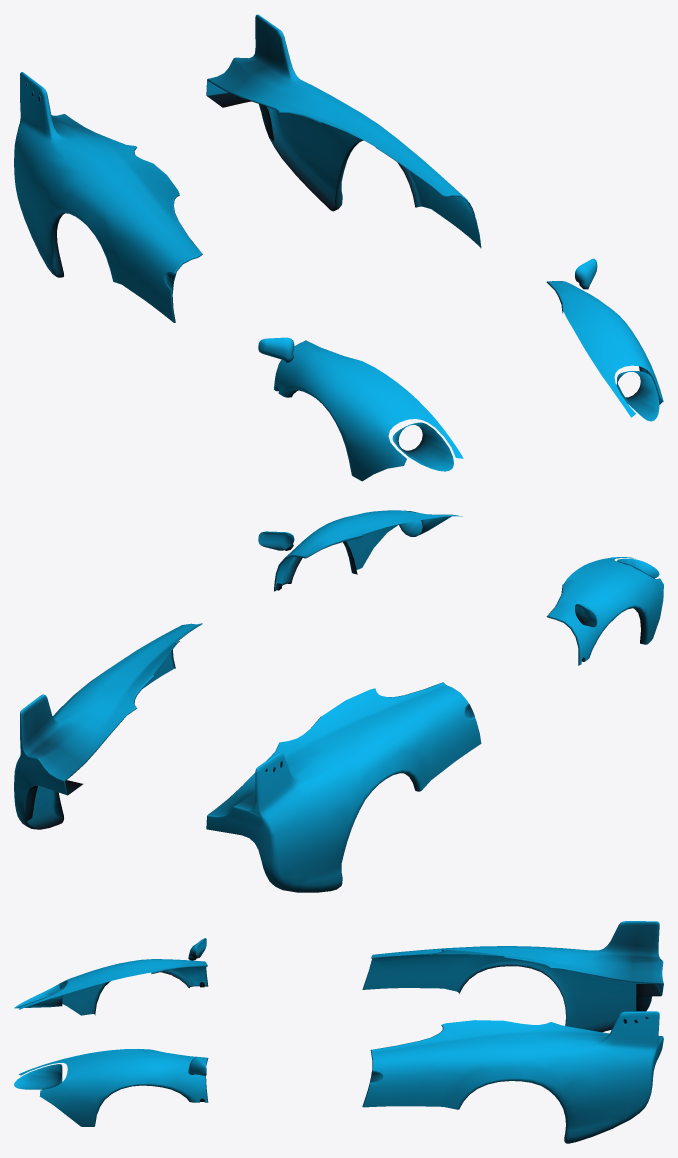
Rendered from MC_XJ220s_Fender01_Duco.fbx.
The picture shows the model from 3 angles, top to bottom: view 1: azimuth 30°, elevation 25°; view 2: azimuth 150°, elevation 25°; view 3: azimuth 270°, elevation 25°; orthographic projection. The views are drawn at different scales.
Visible parts, largest first — view 1: MC_XJ220s_Fender01_Duco; view 2: MC_XJ220s_Fender01_Duco; view 3: MC_XJ220s_Fender01_Duco.
Boxes of the visible parts, bbox=[...] form: MC_XJ220s_Fender01_Duco: bbox=[14, 14, 663, 481]; MC_XJ220s_Fender01_Duco: bbox=[14, 510, 663, 892]; MC_XJ220s_Fender01_Duco: bbox=[14, 921, 663, 1143].
Bounding box in the file's own units: 222 × 99.66 × 471.
